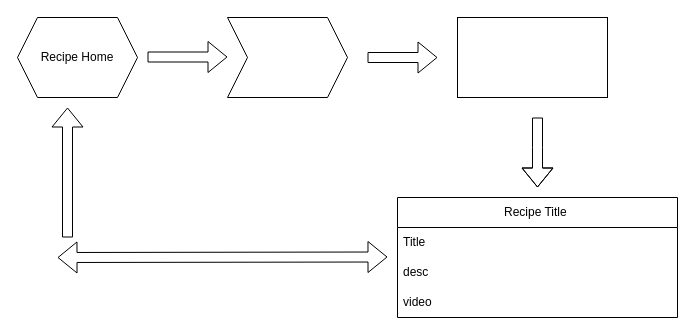
The diagram is 695 pixels wide and 335 high, and some of its shapes have lost their labels. Here are the shapes that lost their labels. From the top down, the centre of each, then its label:
pixel 287 57: search input
pixel 532 57: Searched Recipes
